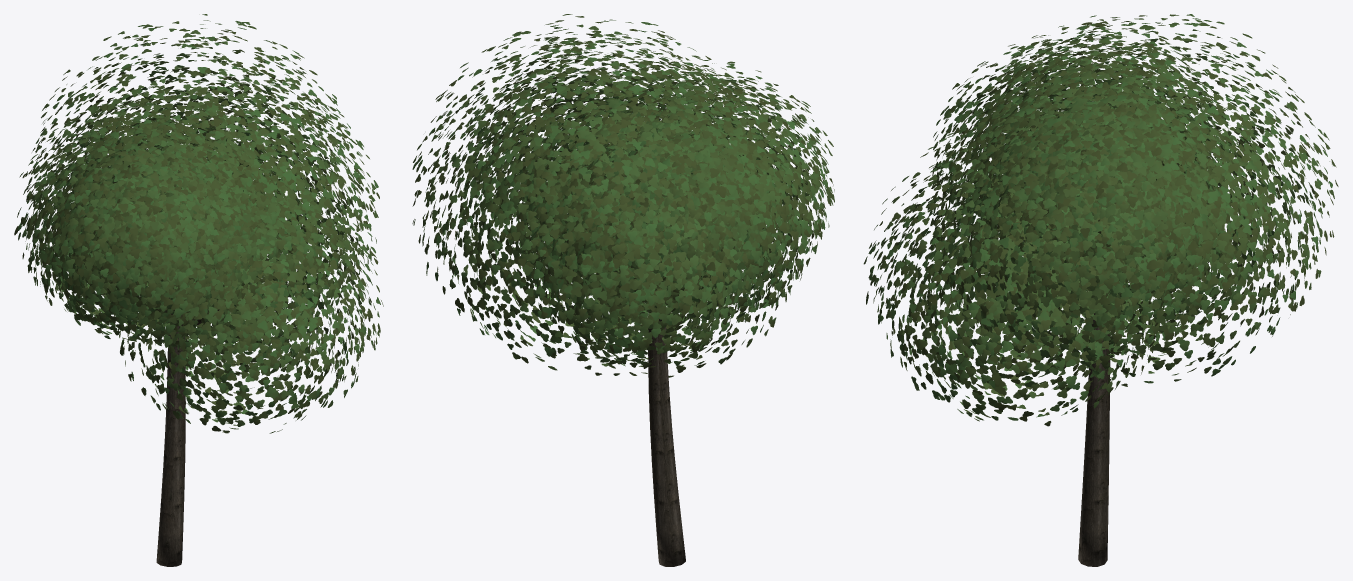
The model's file is ER_Arbre_Feuillu_Dense_15m.gltf.
3 renders of one model, left to right at view 1: azimuth 30°, elevation 25°; view 2: azimuth 150°, elevation 25°; view 3: azimuth 270°, elevation 25°, orthographic. The views are drawn at different scales.
Parts seen in each view (by area): view 1: ER_Arbre_Feuillu_Dense_15m_FEU3.001, ER_Arbre_Feuillu_Dense_15m_ECO.001; view 2: ER_Arbre_Feuillu_Dense_15m_FEU3.001, ER_Arbre_Feuillu_Dense_15m_ECO.001; view 3: ER_Arbre_Feuillu_Dense_15m_FEU3.001, ER_Arbre_Feuillu_Dense_15m_ECO.001.
Part boxes in pixels (bbox=[...]): ER_Arbre_Feuillu_Dense_15m_FEU3.001: bbox=[14, 14, 383, 433]; ER_Arbre_Feuillu_Dense_15m_ECO.001: bbox=[156, 298, 219, 566]; ER_Arbre_Feuillu_Dense_15m_FEU3.001: bbox=[412, 14, 834, 377]; ER_Arbre_Feuillu_Dense_15m_ECO.001: bbox=[648, 312, 685, 566]; ER_Arbre_Feuillu_Dense_15m_FEU3.001: bbox=[863, 14, 1338, 426]; ER_Arbre_Feuillu_Dense_15m_ECO.001: bbox=[1047, 285, 1110, 566].
Size of the model in its own units: 9.36 by 13.52 by 10.38.
2 materials, 1 textured.
